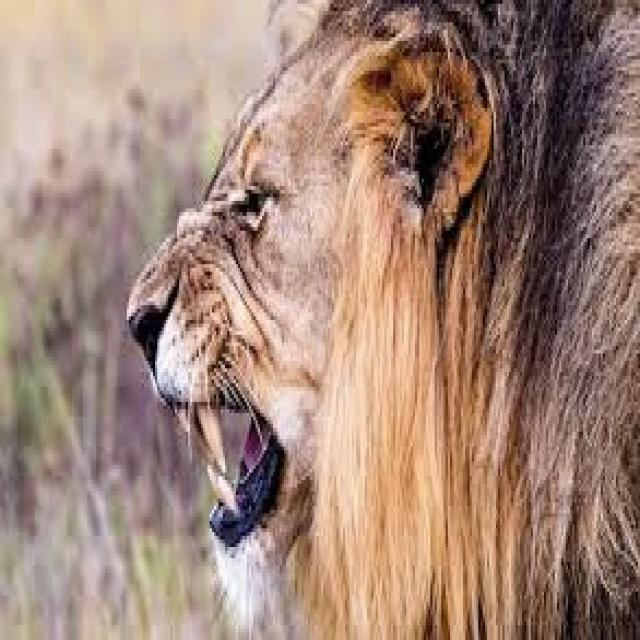lion: (127, 0, 638, 636)
